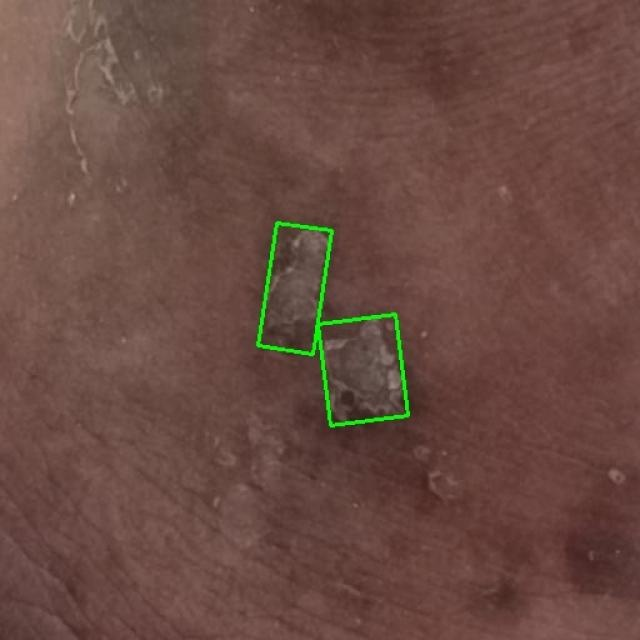Eczema: (318, 314, 409, 425), (259, 223, 331, 354)
